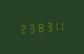eight: (34, 20, 41, 34)
one: (50, 19, 57, 32), (58, 18, 65, 31)
three: (25, 21, 32, 34), (42, 20, 49, 33)
two: (17, 22, 24, 35)
